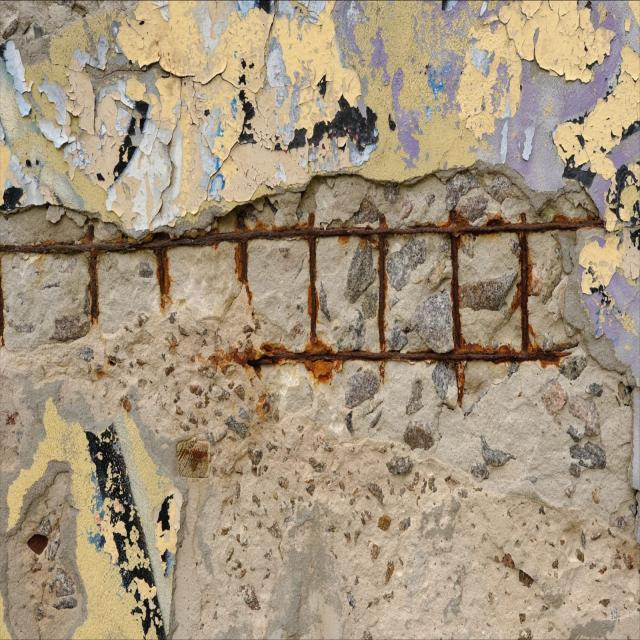peeling: (446, 0, 636, 218)
spalling: (0, 170, 638, 638)
